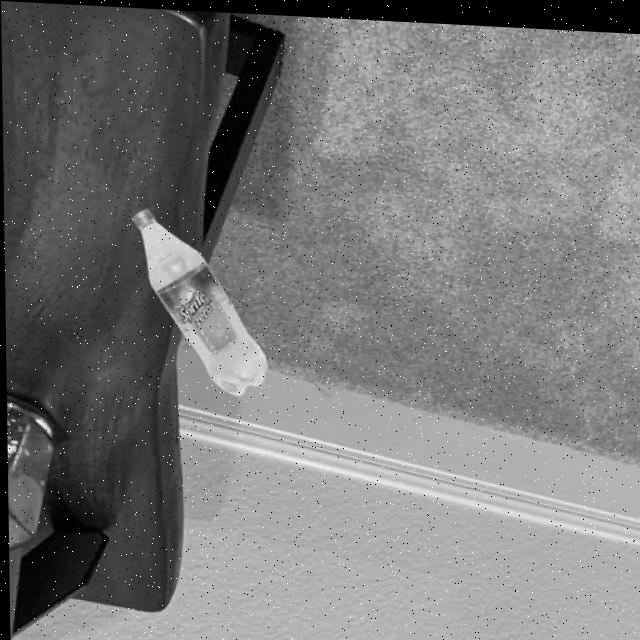bottle: (130, 204, 268, 396)
